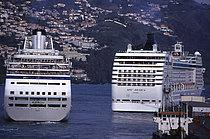Ship: (111, 32, 210, 116), (2, 30, 77, 125)
